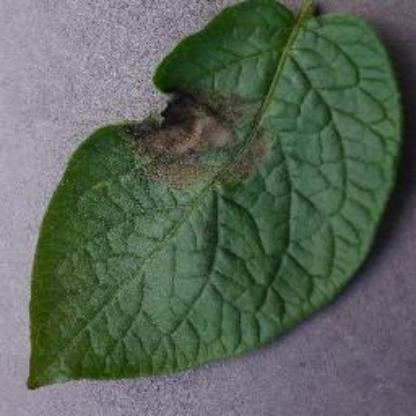Late-Blight: (26, 2, 406, 394)
